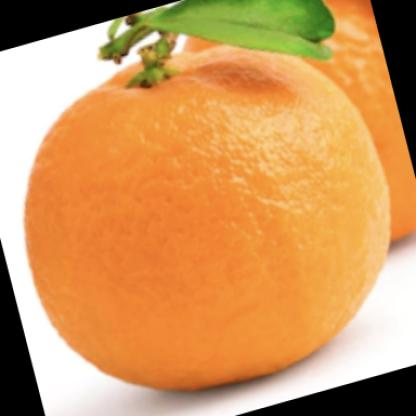fresh: (33, 51, 392, 389)
